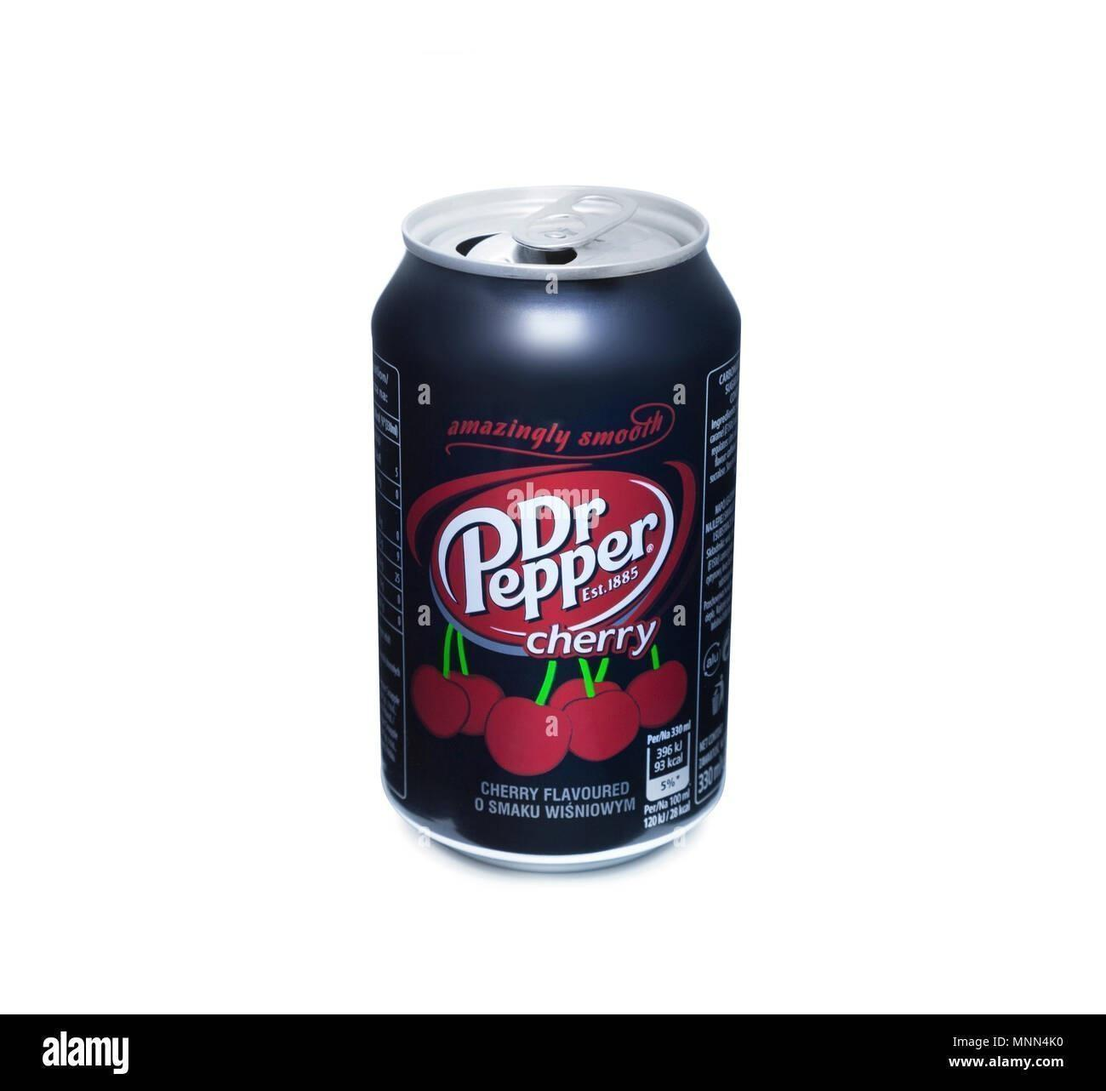tin can: (370, 178, 744, 874)
